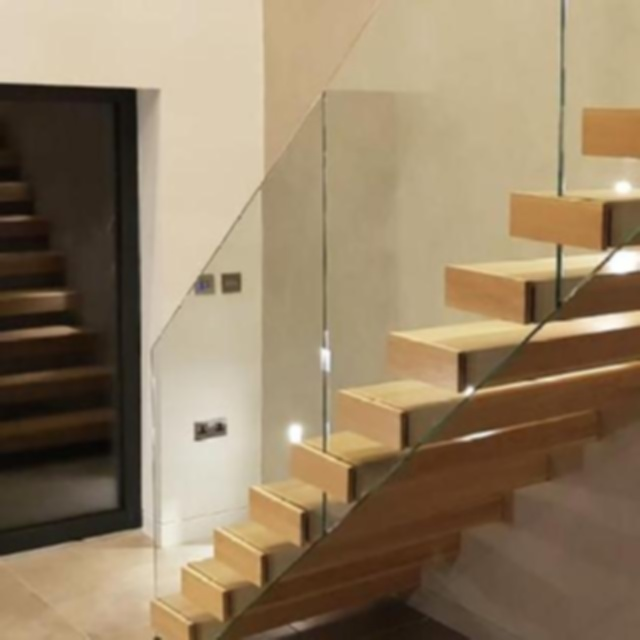stair: (132, 77, 639, 640)
